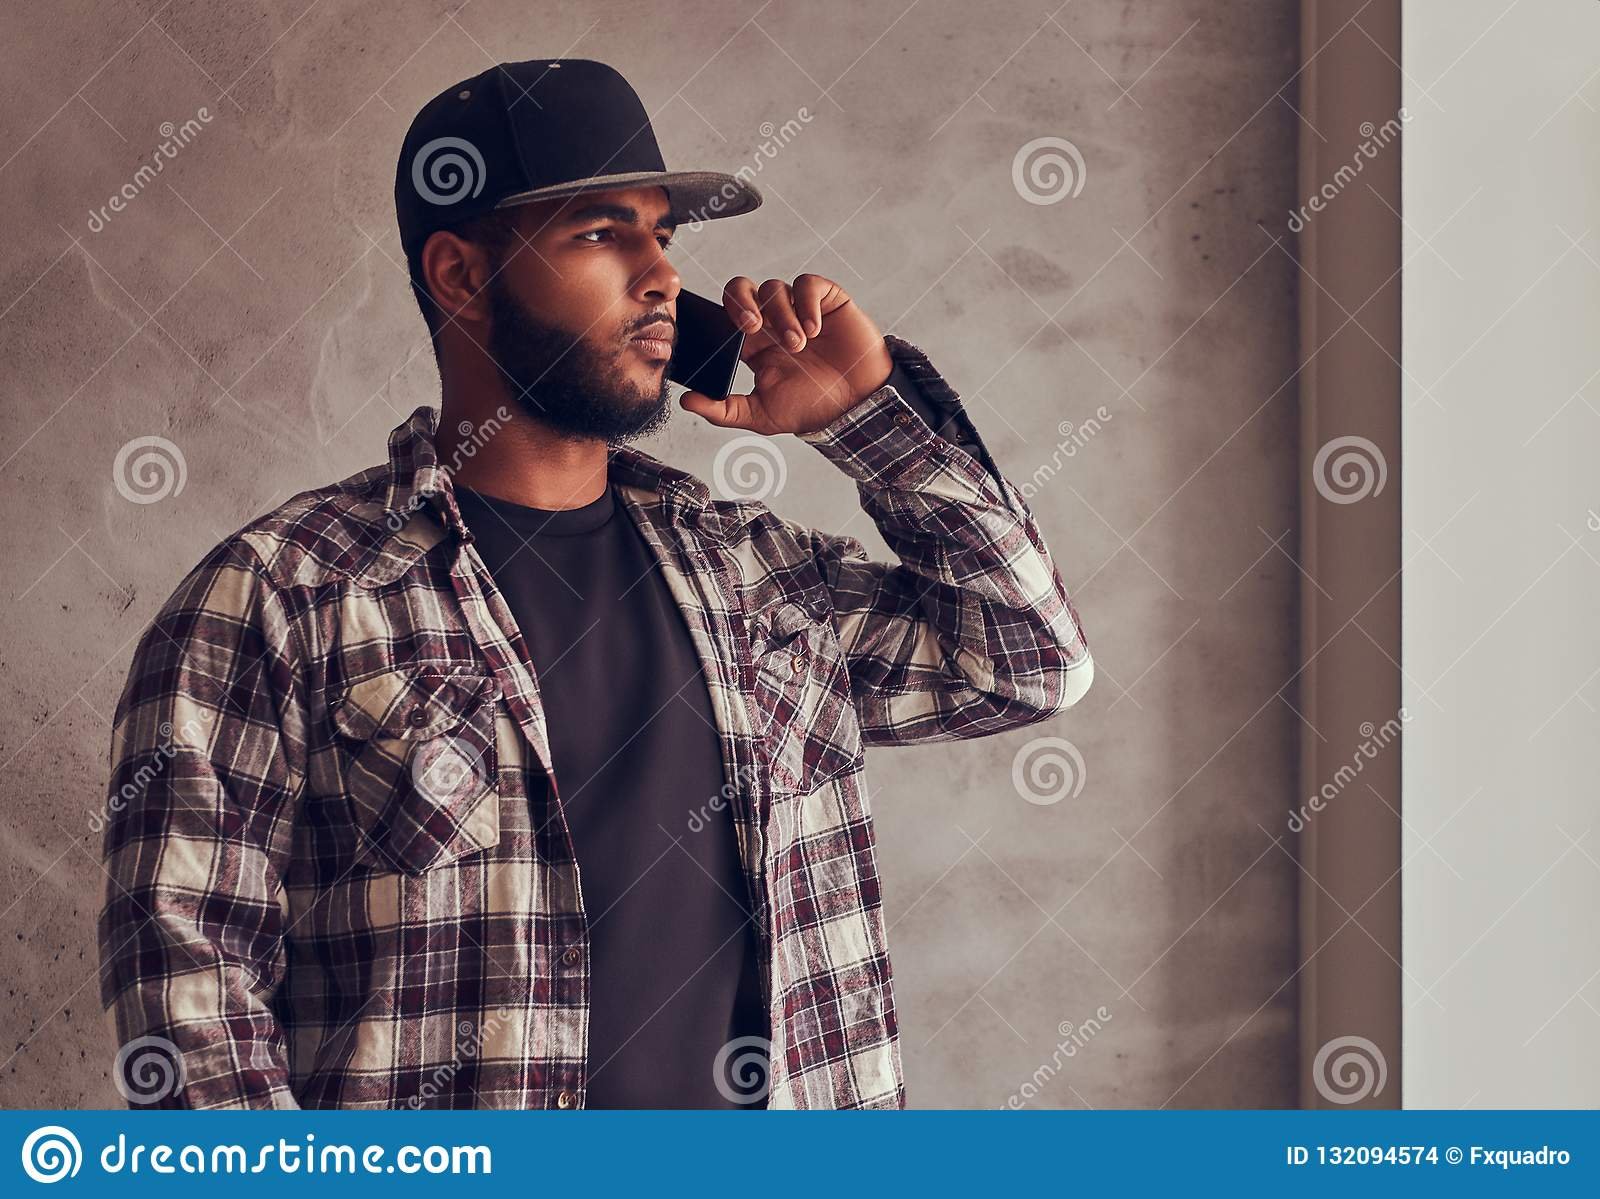phone: (668, 280, 753, 406)
talk: (554, 199, 895, 455)
